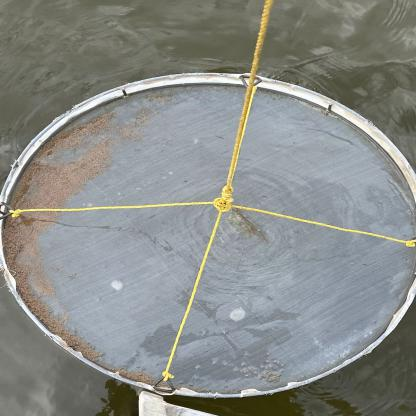shrimp: (231, 207, 268, 243)
